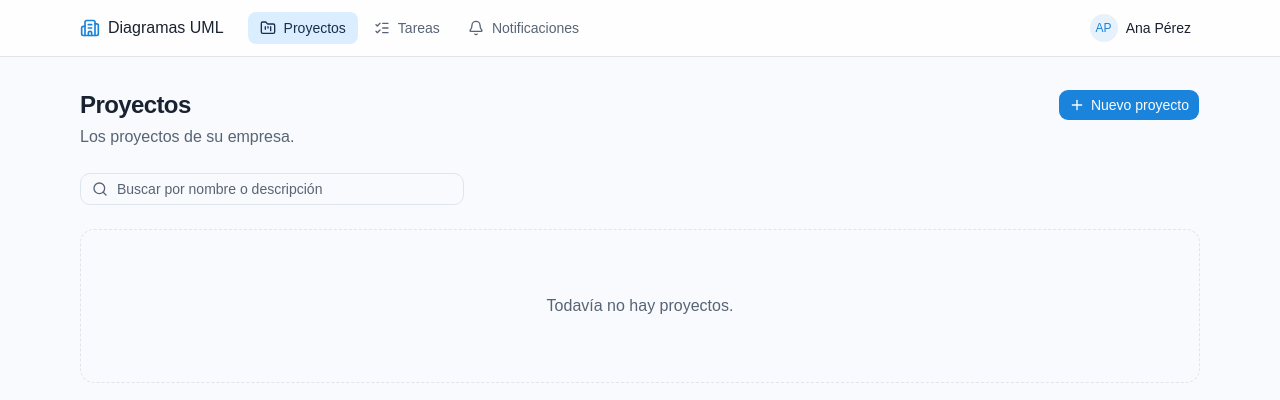
Test: CU-05 Consultar proyectos › avisa cuando el filtro no encuentra nada
Step 1. Type "zzz" into the search field named "Buscar proyectos" → (272, 189), box [80,173,464,205]
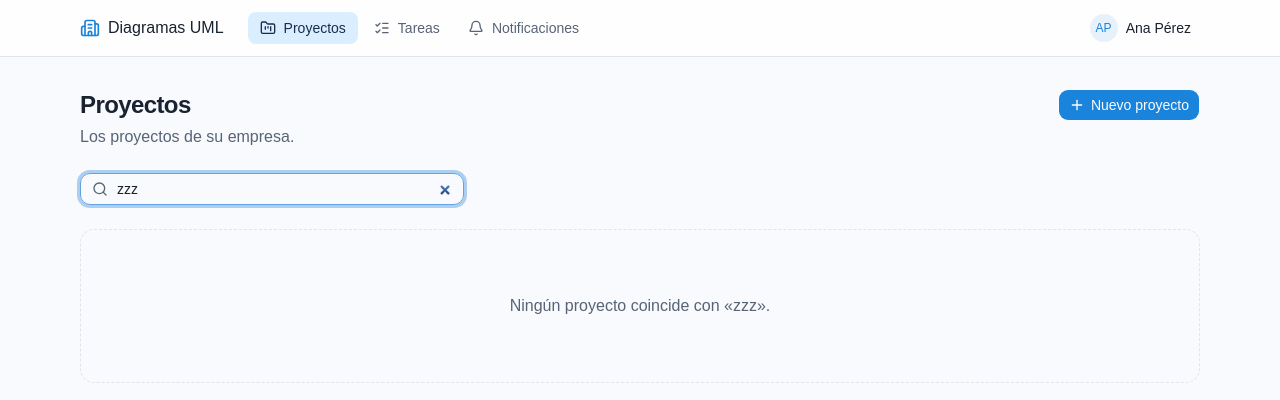
Check: the text "Ningún proyecto coincide con «zzz»." is shown, box [80,229,1200,383]
